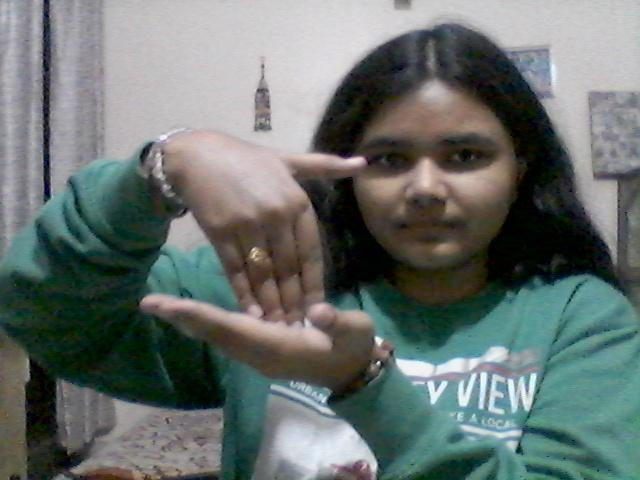repeat: (129, 126, 390, 389)
